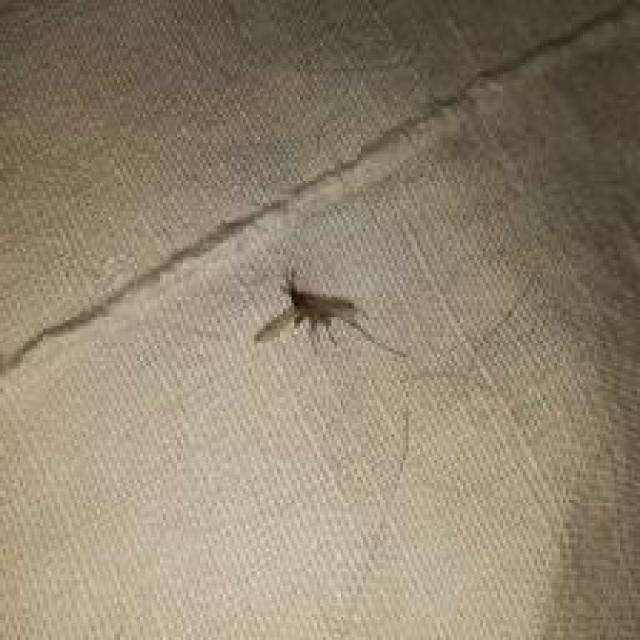Culex: (253, 266, 407, 360)
